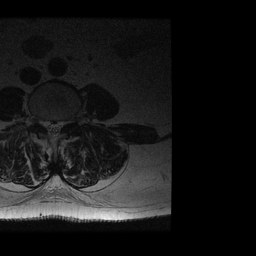CCS_normal: (51, 113, 56, 142)
LFS_stenosis: (63, 113, 71, 129)
LLS_normal: (57, 113, 63, 138)
RFS_normal: (37, 110, 44, 131)
RLS_normal: (44, 113, 50, 137)
